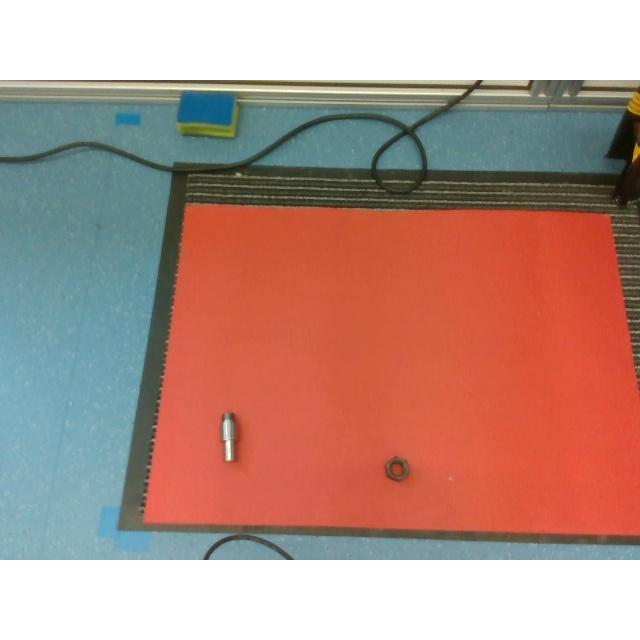Axis2: (218, 410, 240, 462)
M20: (384, 456, 408, 479)
